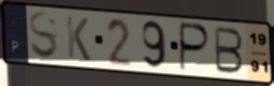2: (105, 16, 135, 68)
9: (141, 19, 169, 70)
B: (213, 24, 245, 76)
K: (64, 13, 93, 63)
P: (178, 20, 212, 74)
S: (27, 10, 61, 62)
